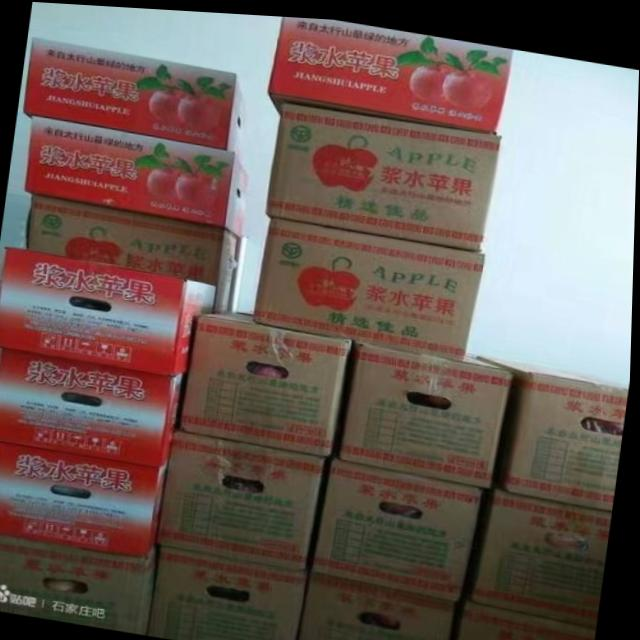box: (268, 98, 501, 245), (254, 216, 487, 356), (267, 13, 515, 128), (0, 246, 218, 375), (25, 116, 249, 235), (24, 36, 247, 151), (183, 305, 352, 454), (341, 337, 513, 483), (318, 456, 484, 595), (482, 349, 630, 504), (163, 429, 325, 568), (0, 349, 190, 464), (476, 481, 614, 620), (0, 444, 171, 555), (30, 195, 240, 285), (0, 534, 160, 632), (151, 543, 307, 640), (303, 566, 460, 640), (461, 595, 599, 640)
